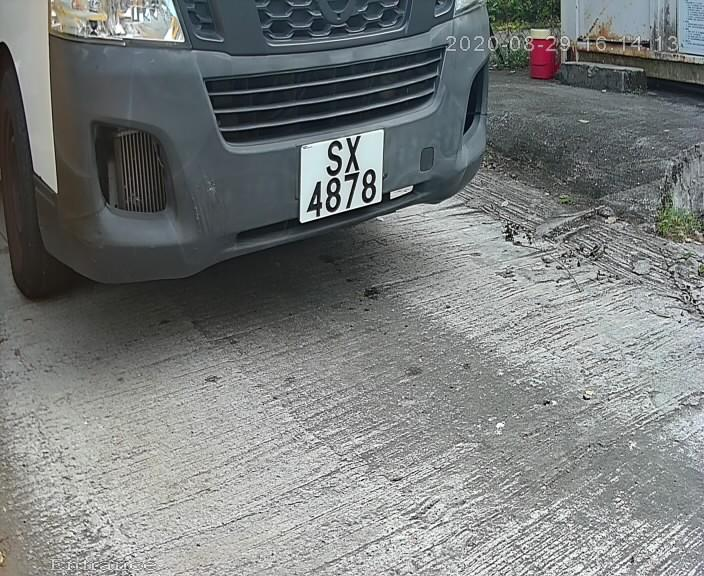License Plate: (290, 124, 390, 229)
